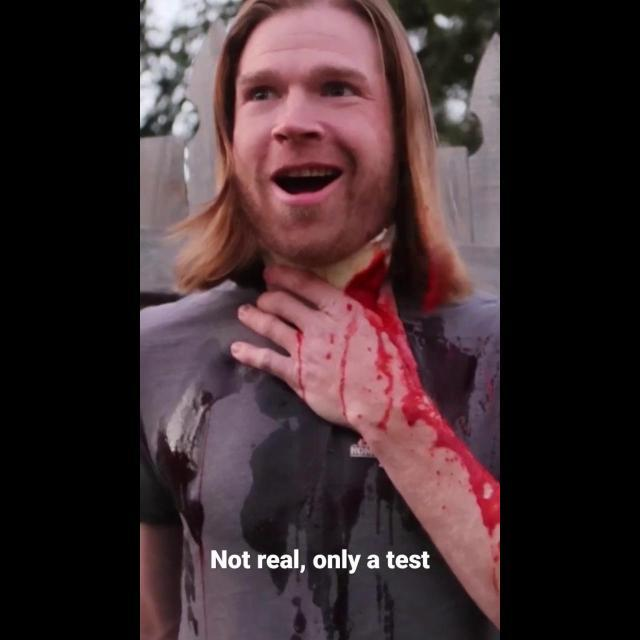blood: (364, 290, 500, 532), (409, 318, 477, 440), (332, 314, 357, 428), (344, 250, 388, 312), (284, 330, 308, 406)
